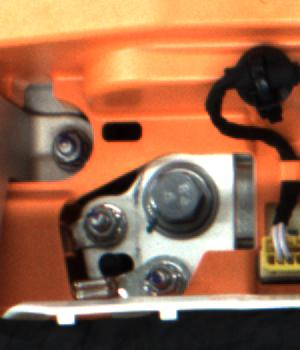nut_b: (137, 154, 224, 238)
screw_s: (138, 255, 187, 294), (83, 200, 123, 246), (51, 121, 88, 167)
